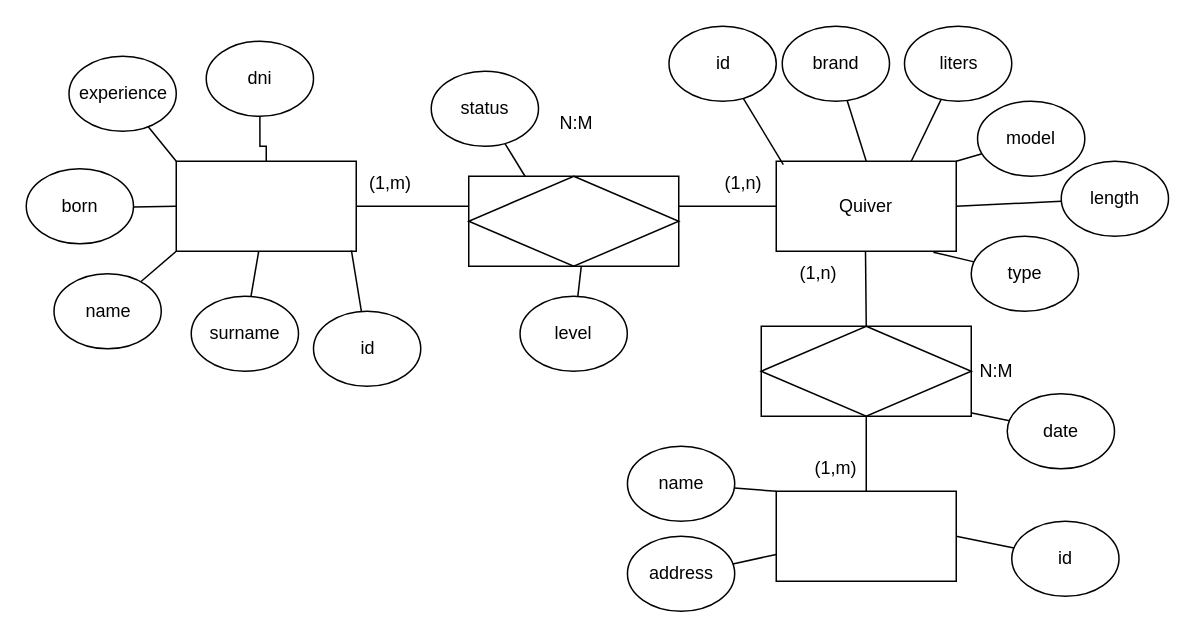
Some shapes in this 1196 by 638 pixel diagram are drawn without their labels. The centre of each missing label's shape, as x and y in pixels:
"Posee" belongs at (x=573, y=220).
"Suministro" belongs at (x=865, y=370).
"Surfista" belongs at (x=265, y=205).
"Tienda" belongs at (x=865, y=535).
